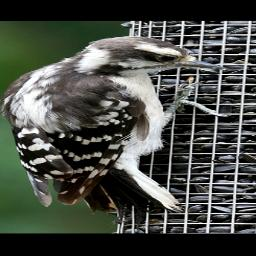Woodpecker: (1, 36, 232, 219)
